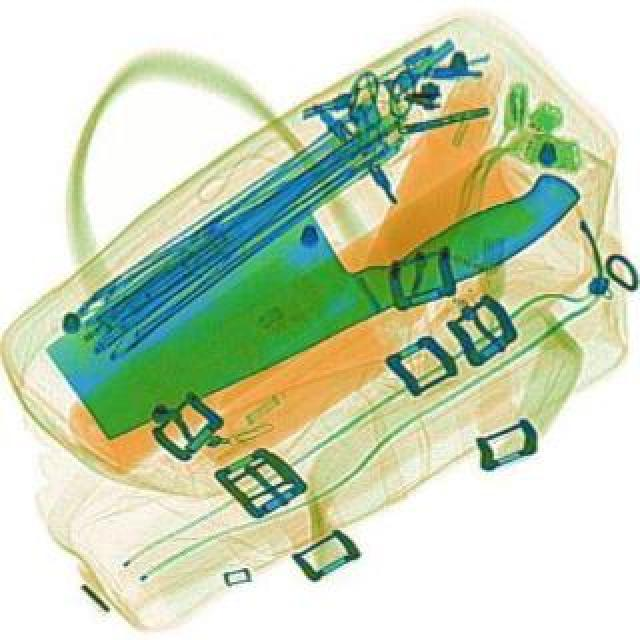knife: (32, 98, 588, 446)
